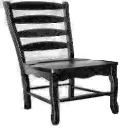chair_success: (1, 1, 123, 126)
